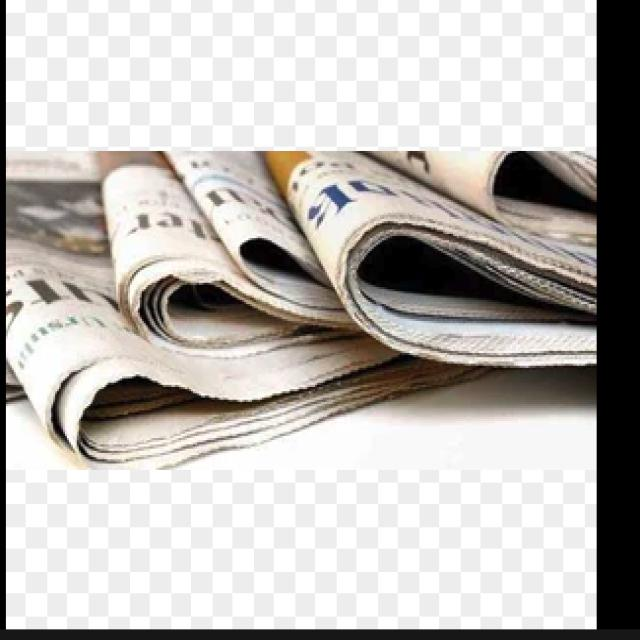Koran: (6, 146, 597, 468)
